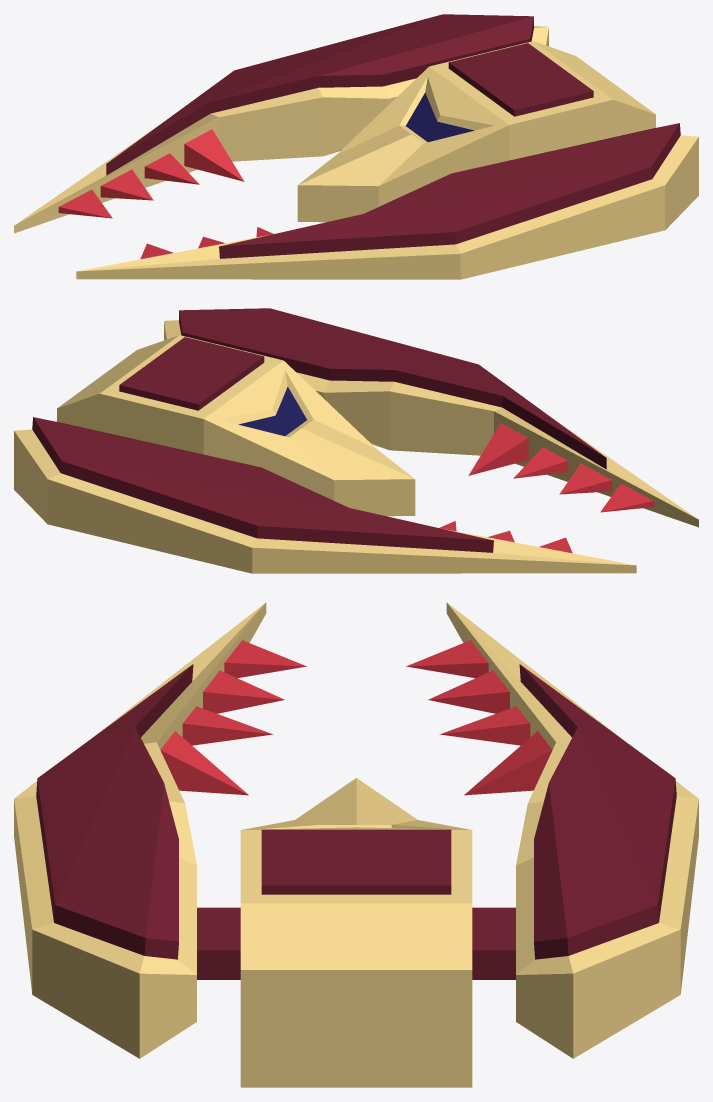
Rendered from Fang.fbx.
The picture shows the model from 3 angles, top to bottom: view 1: azimuth 30°, elevation 25°; view 2: azimuth 150°, elevation 25°; view 3: azimuth 270°, elevation 25°; orthographic projection. The views are drawn at different scales.
Visible parts, largest first — view 1: s1.001; view 2: s1.001; view 3: s1.001.
Boxes of the visible parts, x1,y1,x2,y2 form: s1.001: (14,14,698,279); s1.001: (14,308,698,573); s1.001: (14,602,698,1087).
Bounding box in the file's own units: 299 × 55.78 × 212.
